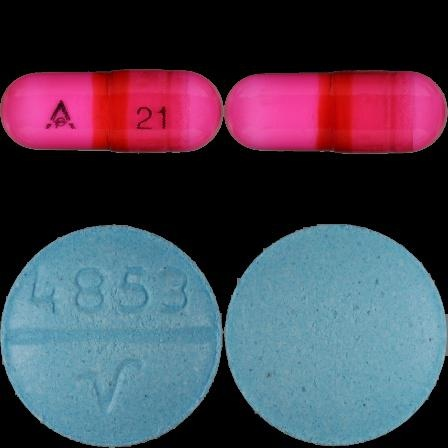63629-1349: (0, 0, 224, 224)
